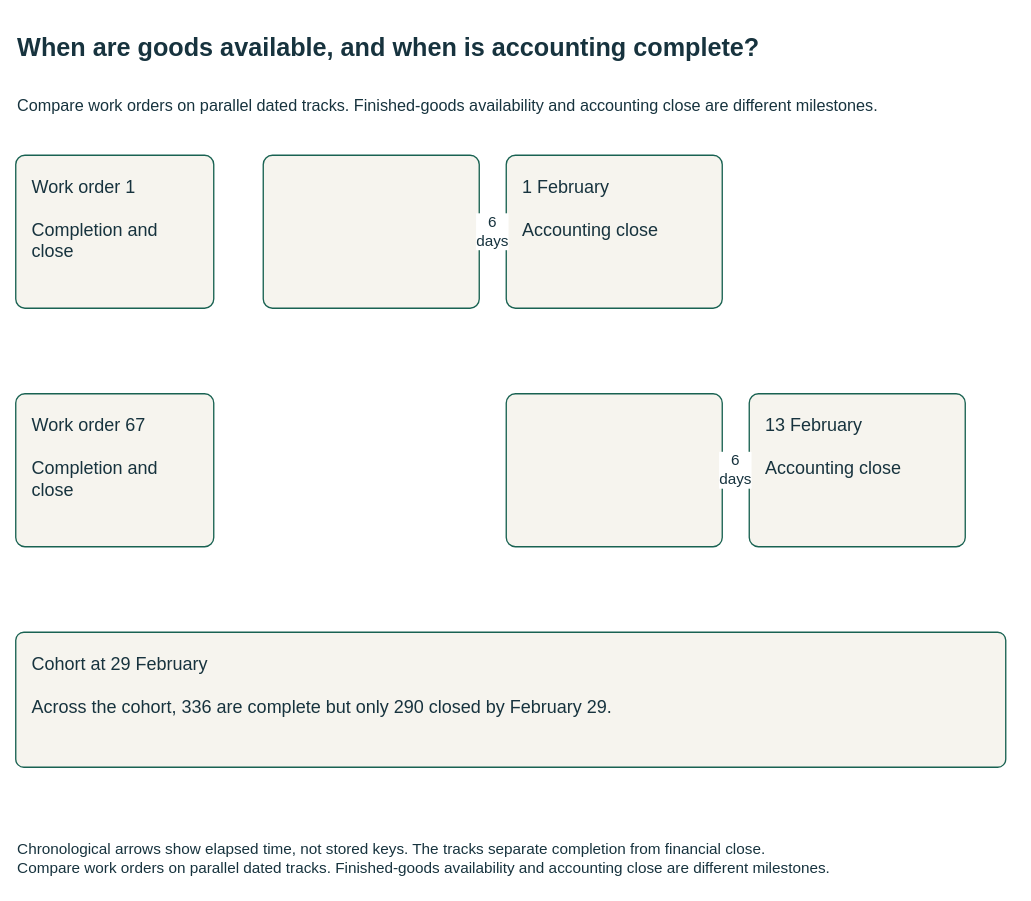
The diagram is 1031 pixels wide and 901 high, and some of its shapes have lost their labels. Each missing label, with the box of its shape:
26 January Finished goods complete: (262, 154, 480, 309)
7 February Finished goods complete: (505, 393, 723, 547)
